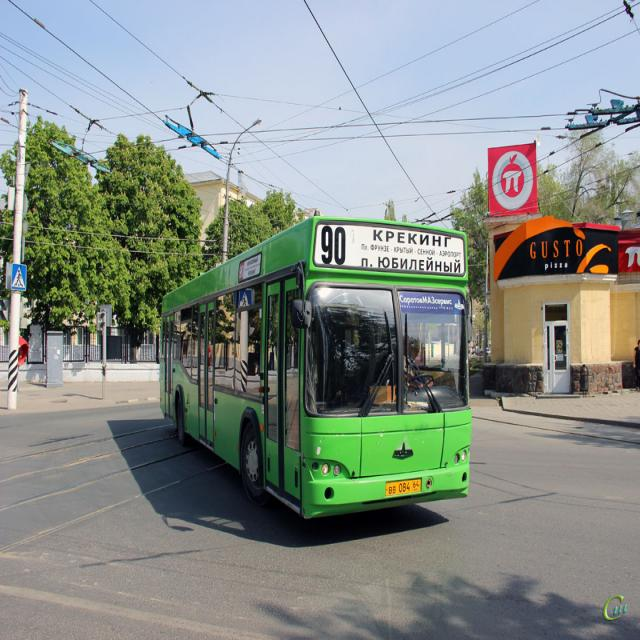number-of-bus: (318, 220, 350, 271)
